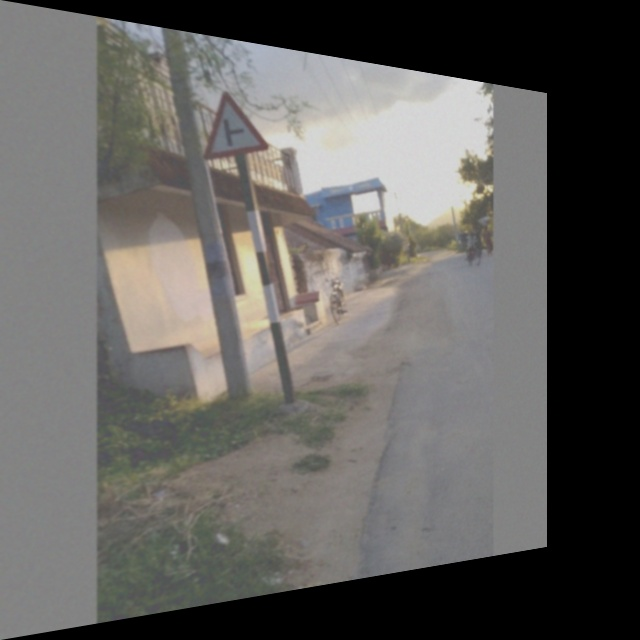Side_Road_Right: (199, 88, 278, 164)
